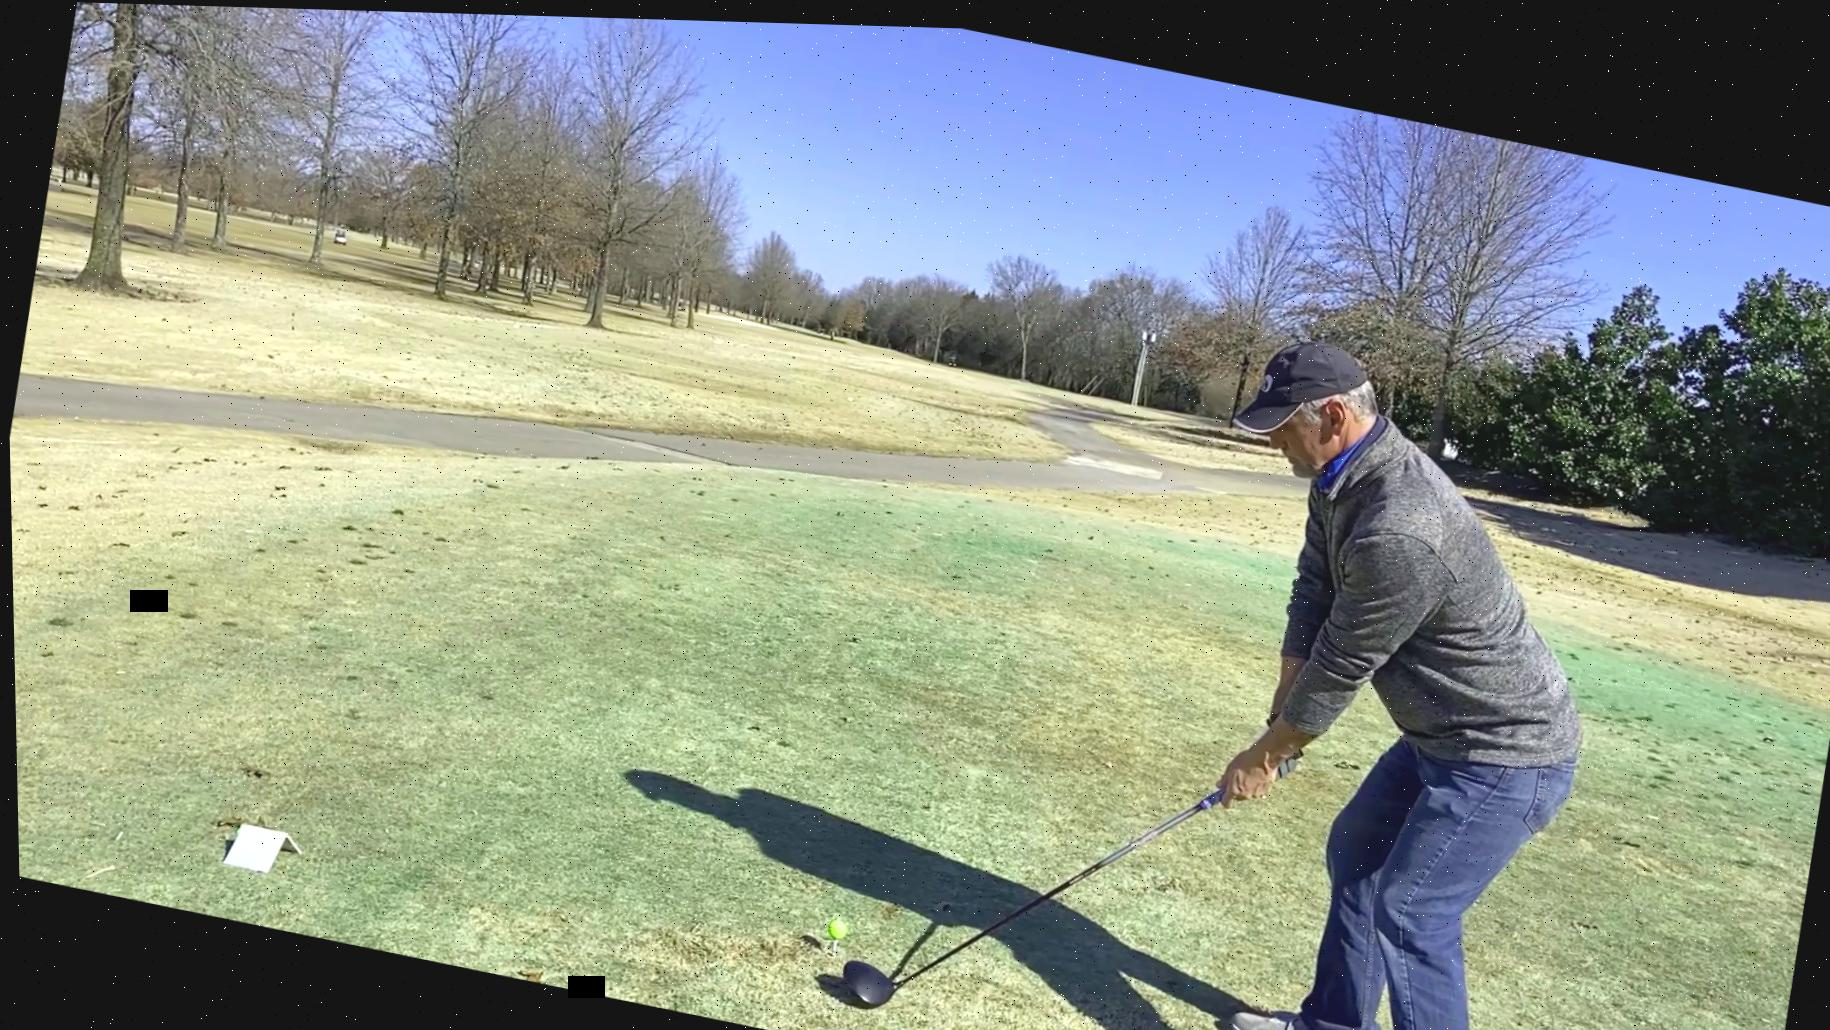ClubHead: (830, 948, 911, 1015)
GolfBall: (819, 911, 847, 939)
